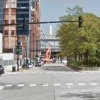crosswalk: (5, 82, 98, 87)
